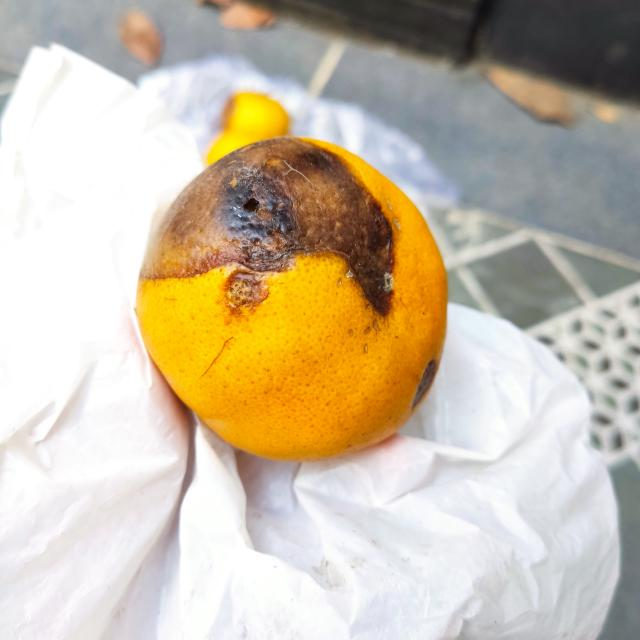orange: (141, 135, 449, 464)
